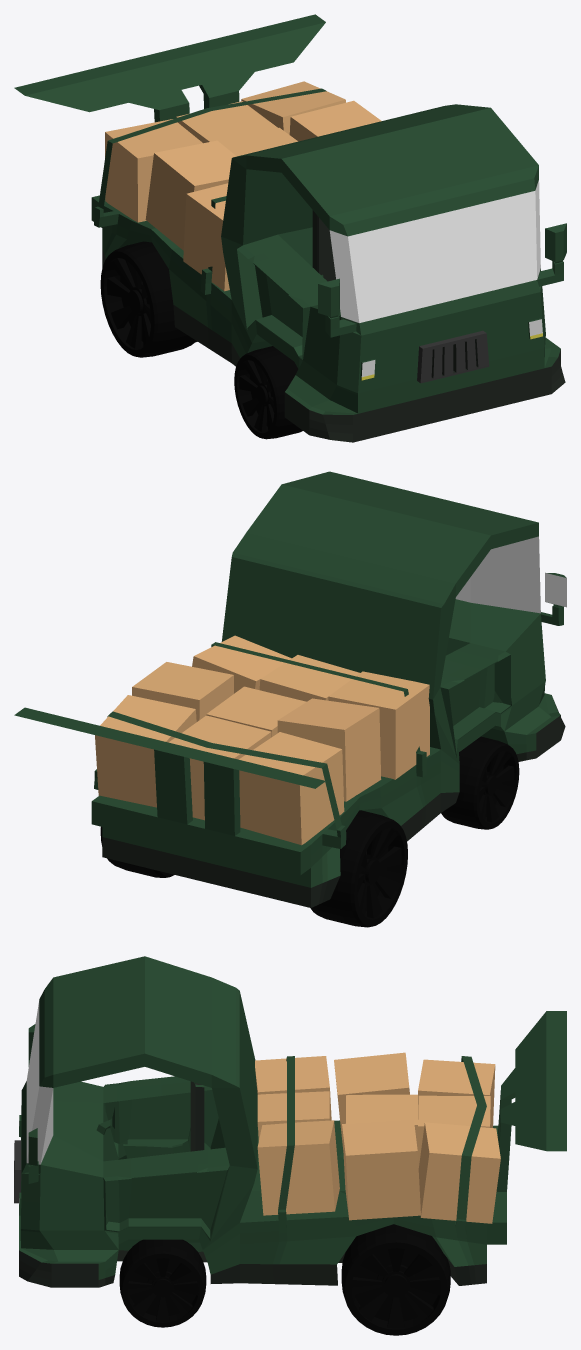
The model's file is carroca.fbx.
3 views of the same model, one above another, from view 1: azimuth 30°, elevation 25°; view 2: azimuth 150°, elevation 25°; view 3: azimuth 270°, elevation 25° (orthographic). The views are drawn at different scales.
Visible parts, largest first — view 1: Cube.002, Cube.005, Cylinder.003, Cylinder.001; view 2: Cube.002, Cube.005, Cylinder.003, Cylinder.001; view 3: Cube.002, Cube.005, Cylinder.003, Cylinder.001.
Boxes of the visible parts, x1,y1,x2,y2 form: Cube.002: (14, 14, 566, 442); Cube.005: (105, 81, 381, 291); Cylinder.003: (100, 241, 197, 357); Cylinder.001: (234, 346, 302, 439); Cube.002: (14, 471, 566, 907); Cube.005: (95, 635, 429, 845); Cylinder.003: (100, 810, 407, 927); Cylinder.001: (441, 736, 519, 829); Cube.002: (14, 956, 566, 1287); Cube.005: (255, 1052, 500, 1223); Cylinder.003: (341, 1224, 450, 1335); Cylinder.001: (119, 1239, 206, 1327).
Size of the model in its own units: 175 by 160 by 292.
